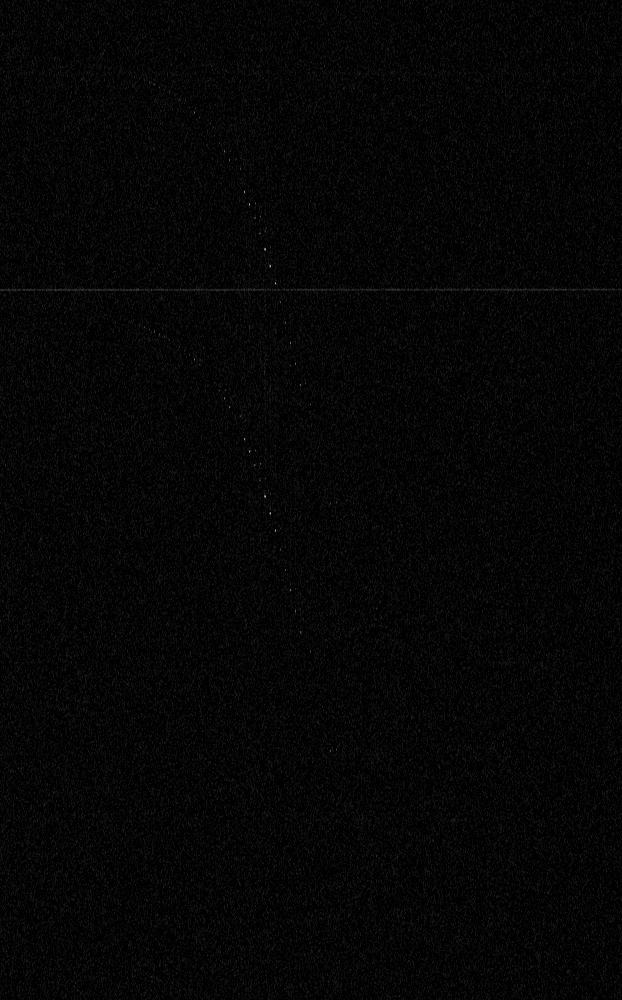signal: (0, 0, 621, 999)
